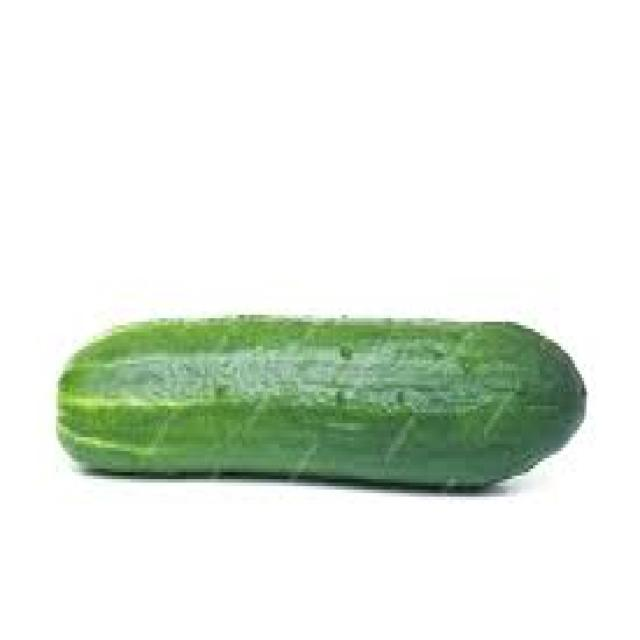cucumber: (54, 311, 586, 490)
